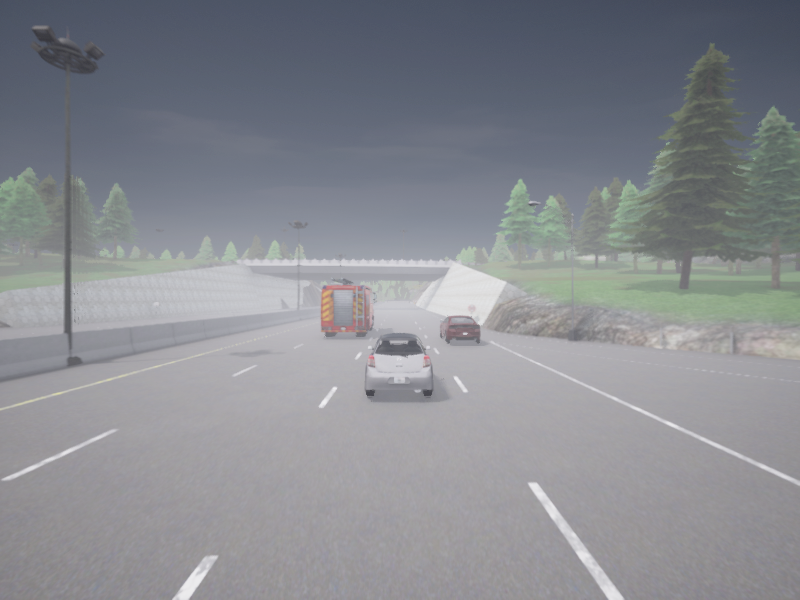vehicle: (365, 333, 432, 396), (320, 277, 376, 335), (439, 315, 480, 342)
